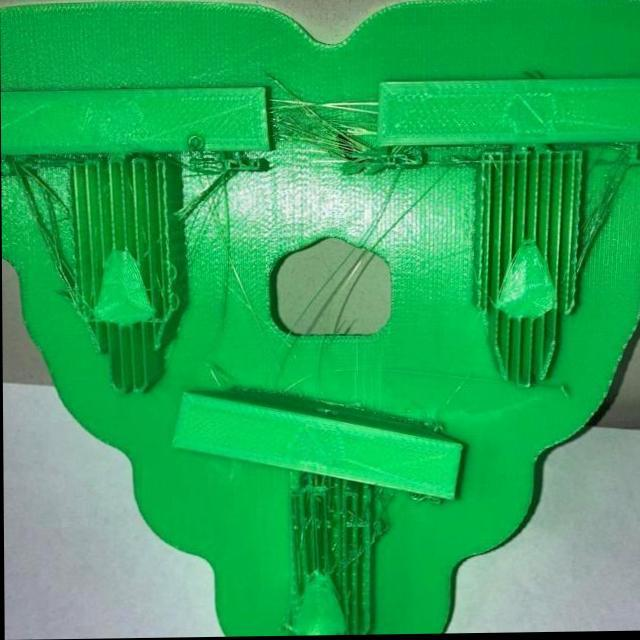stringing: (5, 160, 85, 312), (276, 96, 376, 158), (179, 168, 244, 227)
